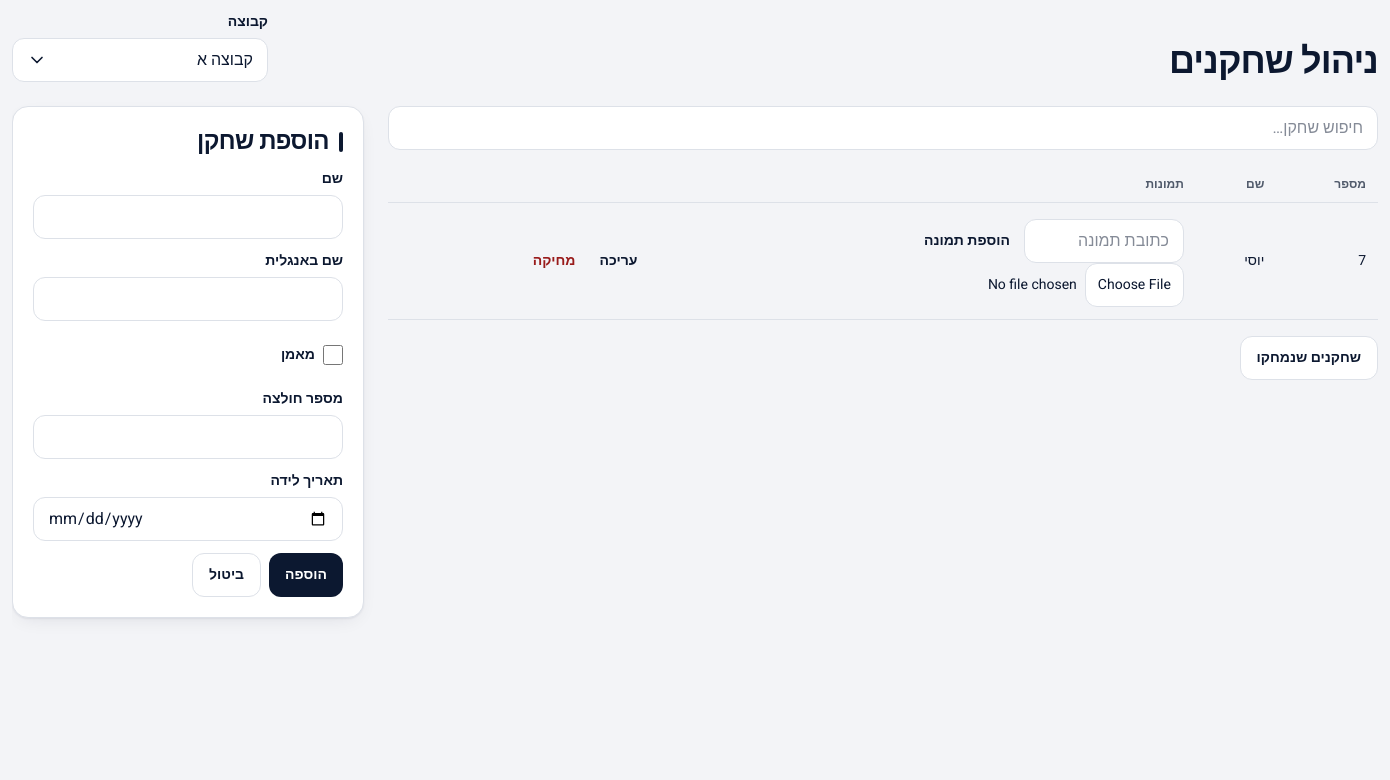
Test case: AdminPlayersView › clicking delete on a row DELETEs and removes that row from the list
Click the button "מחיקה": (554, 261) [523, 239, 586, 283]
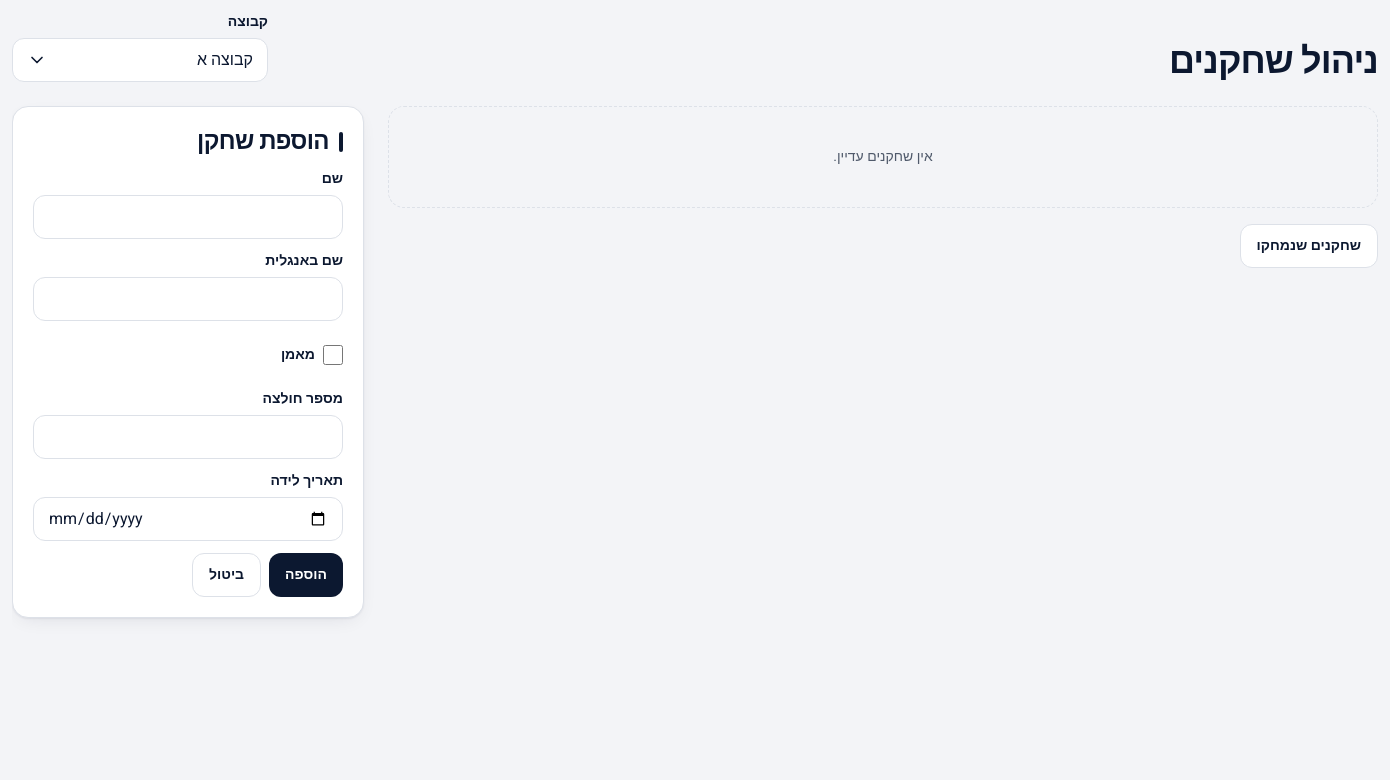
Now the text "יוסי" is gone
